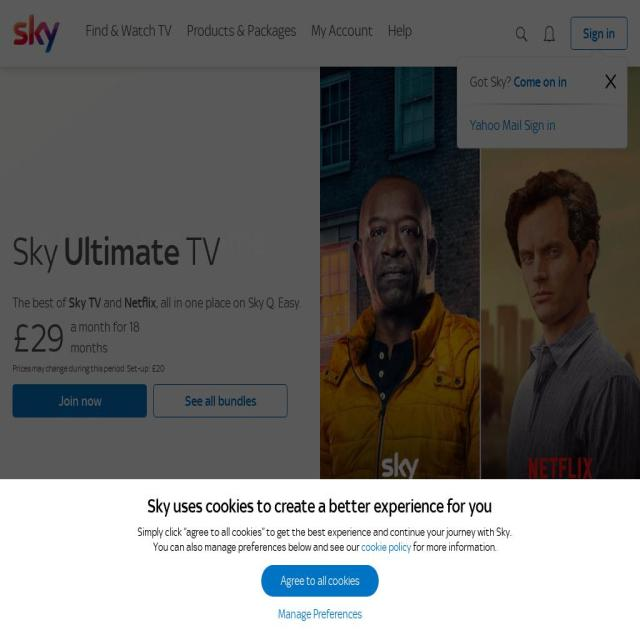button: (12, 576, 207, 640), (222, 576, 417, 640), (432, 576, 627, 640), (12, 384, 147, 418), (153, 384, 288, 418), (12, 13, 60, 54), (570, 17, 628, 50), (600, 68, 620, 95), (543, 25, 556, 43), (516, 25, 528, 43), (299, 550, 309, 563), (315, 550, 325, 563), (331, 550, 341, 563)
iframe: (0, 0, 640, 640)
image: (0, 66, 640, 616), (320, 0, 640, 640), (100, 581, 208, 640), (310, 581, 418, 640), (520, 581, 628, 640), (600, 68, 620, 95), (543, 25, 556, 43), (516, 25, 528, 43)
link: (187, 21, 296, 40), (86, 21, 172, 40), (470, 116, 556, 133), (311, 21, 373, 40), (513, 72, 567, 90), (388, 21, 412, 40)
text: (64, 228, 180, 276), (12, 361, 288, 377), (156, 294, 302, 312), (12, 228, 64, 275), (71, 322, 146, 353), (25, 602, 113, 626), (235, 602, 323, 626), (445, 602, 533, 626), (180, 228, 221, 275), (12, 324, 64, 354), (235, 626, 323, 640), (445, 626, 533, 640), (25, 626, 112, 640), (12, 294, 68, 312), (469, 72, 512, 90), (69, 294, 101, 312), (125, 294, 156, 312), (102, 294, 125, 312)
